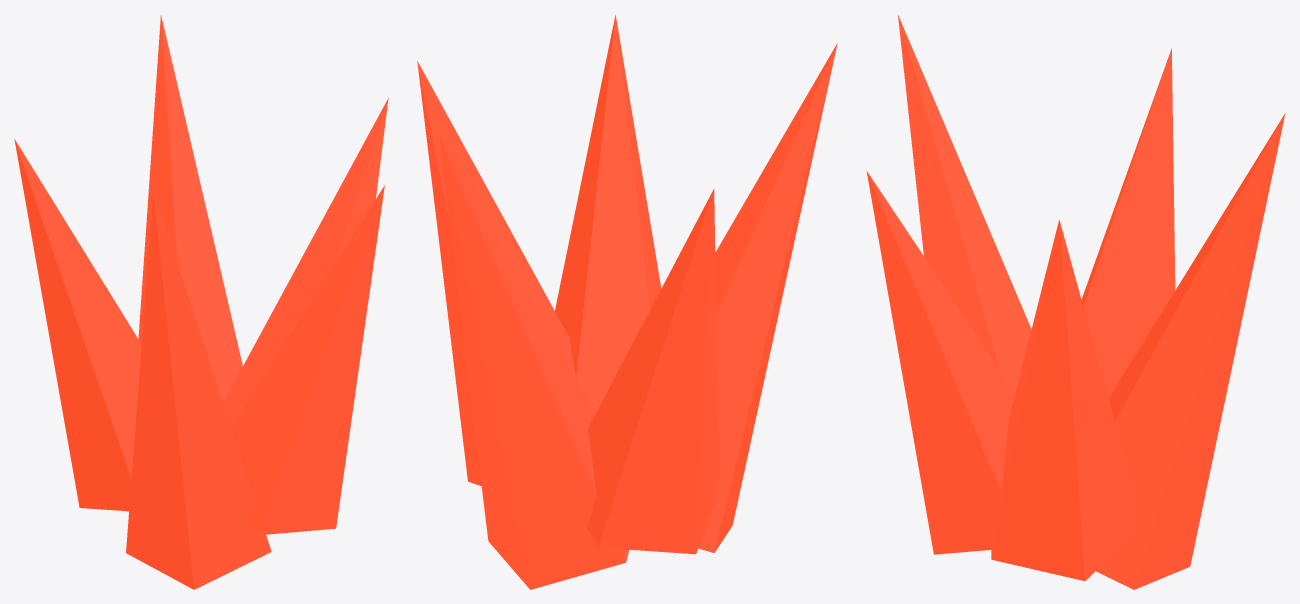
Rendered from AbyssSpikes.glb.
The picture shows the model from 3 angles, left to right: view 1: azimuth 30°, elevation 25°; view 2: azimuth 150°, elevation 25°; view 3: azimuth 270°, elevation 25°; orthographic projection. The views are drawn at different scales.
Visible parts, largest first — view 1: AbyssSpikes; view 2: AbyssSpikes; view 3: AbyssSpikes.
Boxes of the visible parts, x1,y1,x2,y2 form: AbyssSpikes: (14, 15, 388, 589); AbyssSpikes: (417, 15, 837, 589); AbyssSpikes: (866, 15, 1285, 589).
Size of the model in its own units: 1.69 by 2.18 by 1.74.
